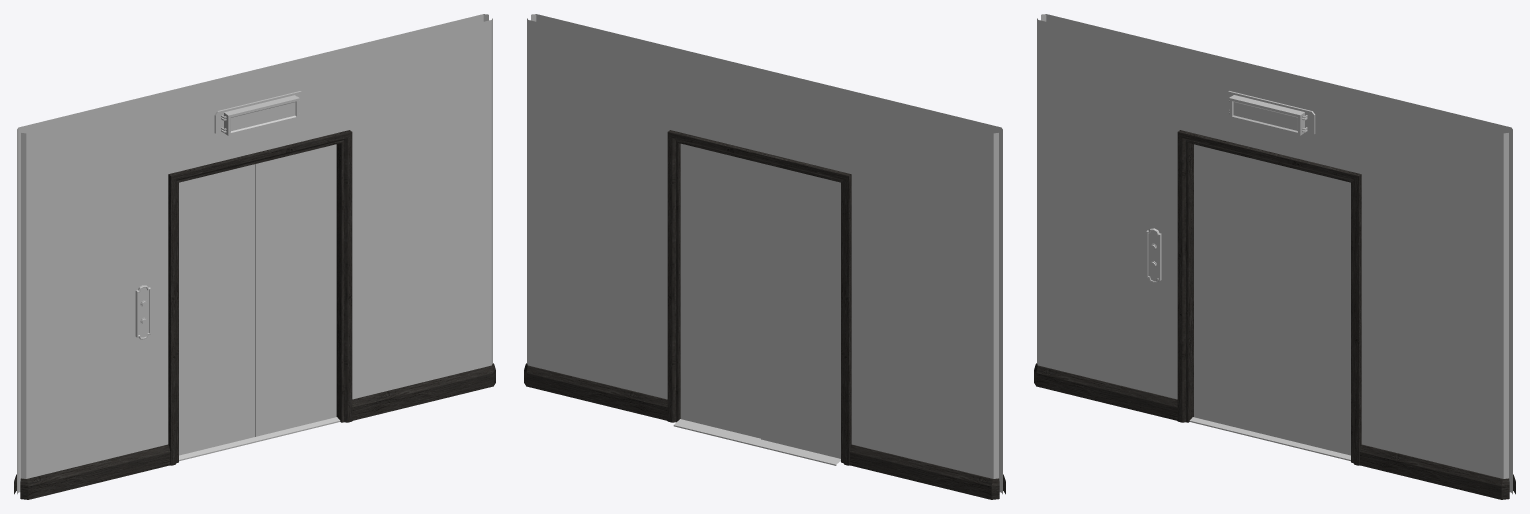
File: elevator_doorway_2_1.fbx
3 renders of one model, left to right at view 1: azimuth 30°, elevation 25°; view 2: azimuth 150°, elevation 25°; view 3: azimuth 330°, elevation 25°, orthographic.
Parts seen in each view (by area): view 1: elevator_doorway_2_1, elevator_door_5_a, elevator_door_5_b; view 2: elevator_doorway_2_1, elevator_door_5_a, elevator_door_5_b; view 3: elevator_doorway_2_1, elevator_door_5_b, elevator_door_5_a.
Part boxes in pixels (x1,y1,x2,y2): elevator_doorway_2_1: (14,14,495,499); elevator_door_5_a: (255,144,336,436); elevator_door_5_b: (179,164,254,455); elevator_doorway_2_1: (524,14,1005,499); elevator_door_5_a: (680,143,760,438); elevator_door_5_b: (761,163,840,461); elevator_doorway_2_1: (1034,14,1515,499); elevator_door_5_b: (1194,144,1274,436); elevator_door_5_a: (1274,164,1350,455).
Bounding box in the file's own units: 4.09 × 3 × 0.29.
